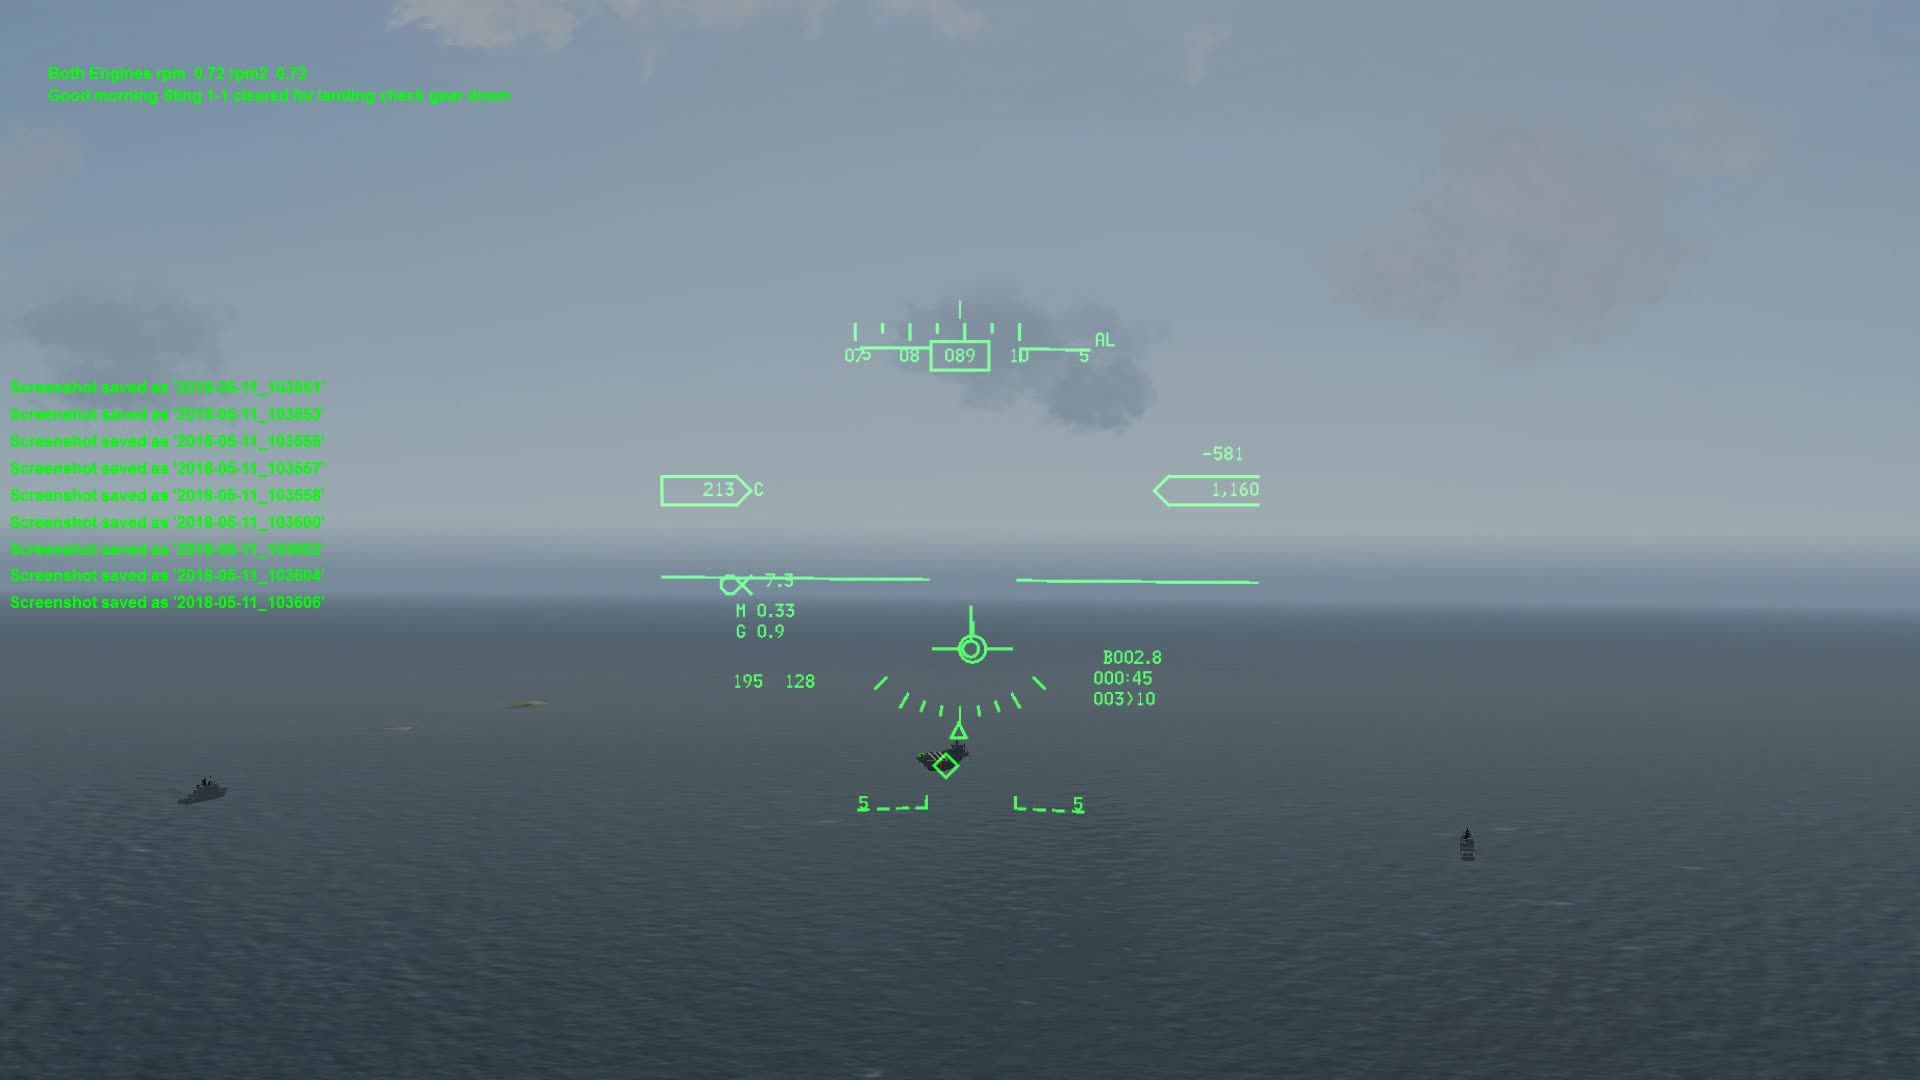speed vector: (928, 618, 1013, 669)
